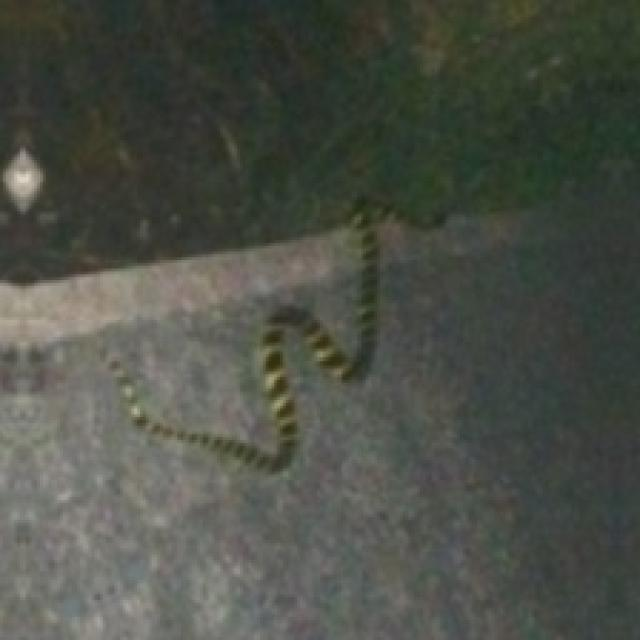mangrove cat snake: (109, 211, 377, 471)
